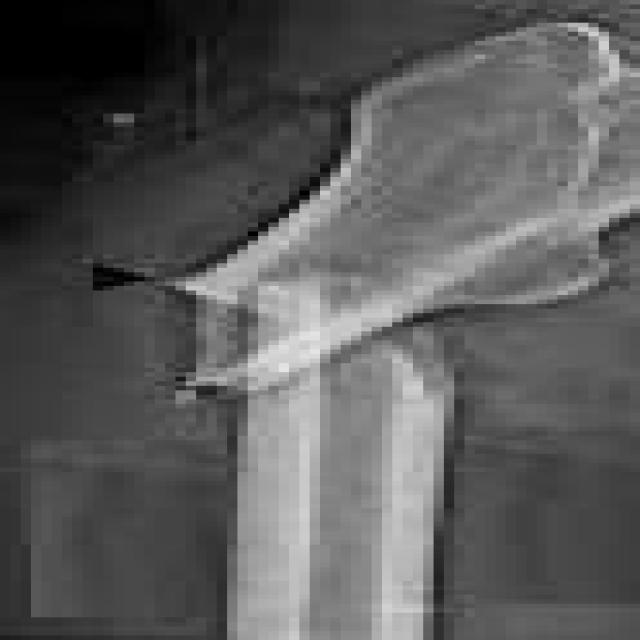Broken: (163, 98, 636, 393), (206, 340, 446, 640)
